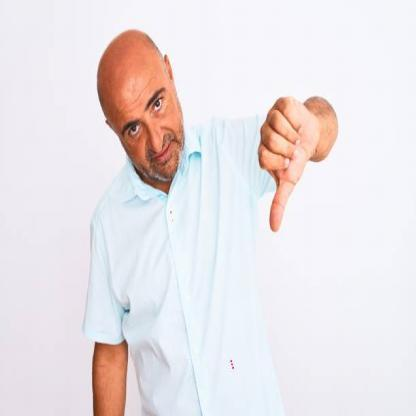thumb_down: (254, 90, 320, 235)
